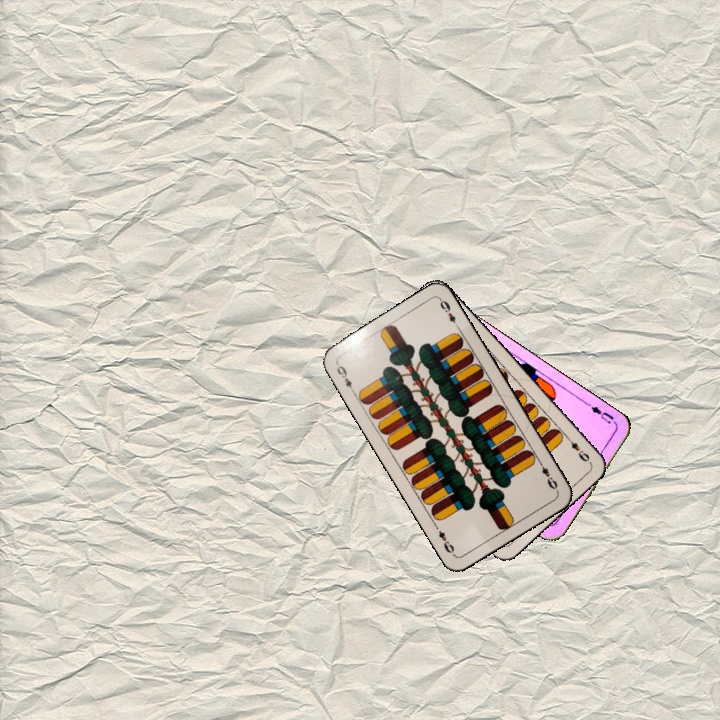E9: (562, 432, 593, 465), (534, 456, 560, 494), (332, 359, 355, 391)
EU: (583, 399, 619, 427)
